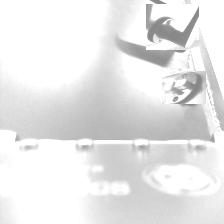Door Handle: (147, 2, 197, 52), (164, 68, 204, 107)
